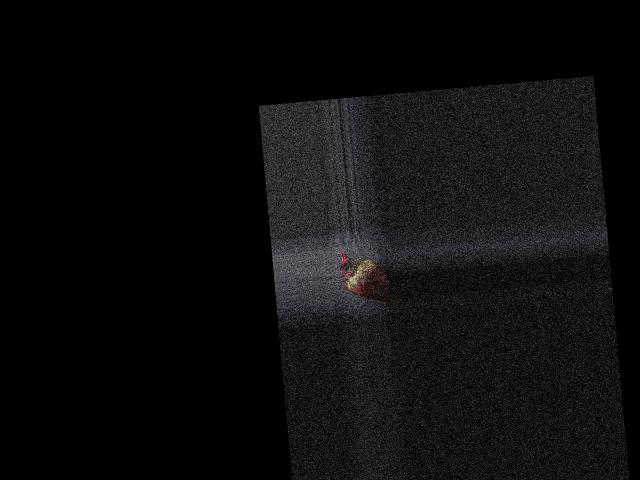beet: (335, 247, 391, 311)
